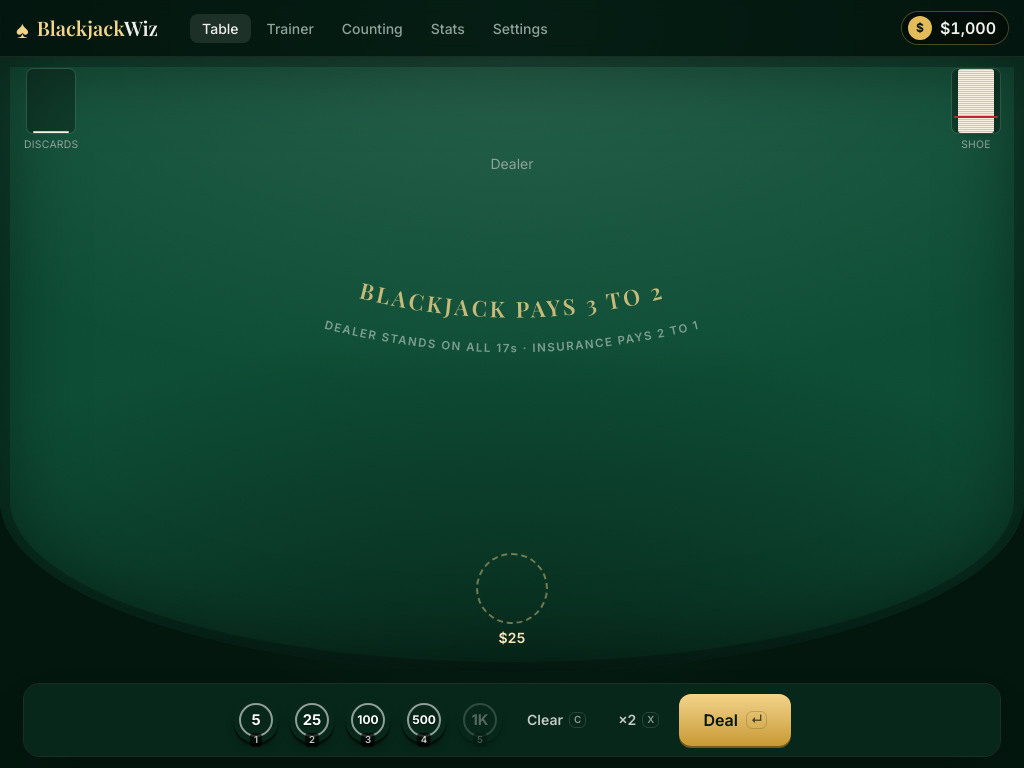
Scenario: table › builds a bet from chips and deals with the keyboard
Expected: the element named "Bankroll $1,000" is shown, [902, 12, 1008, 44]
Click the button named "Add $100". click: (368, 720)
box: [345, 697, 391, 743]
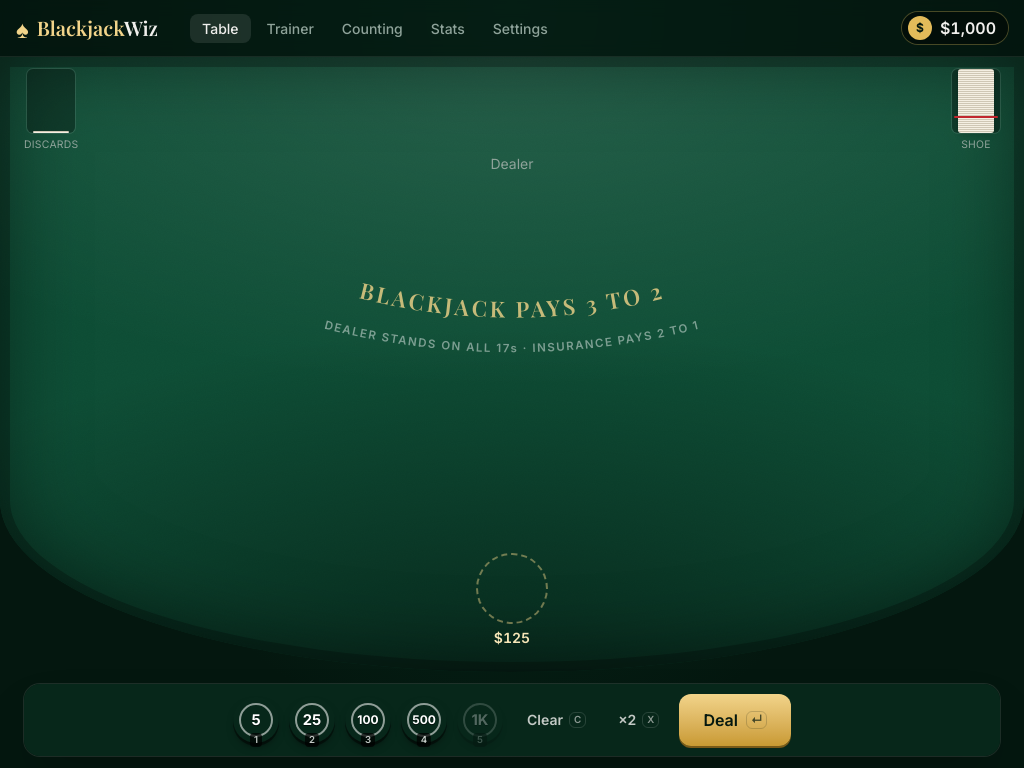
Press Enter
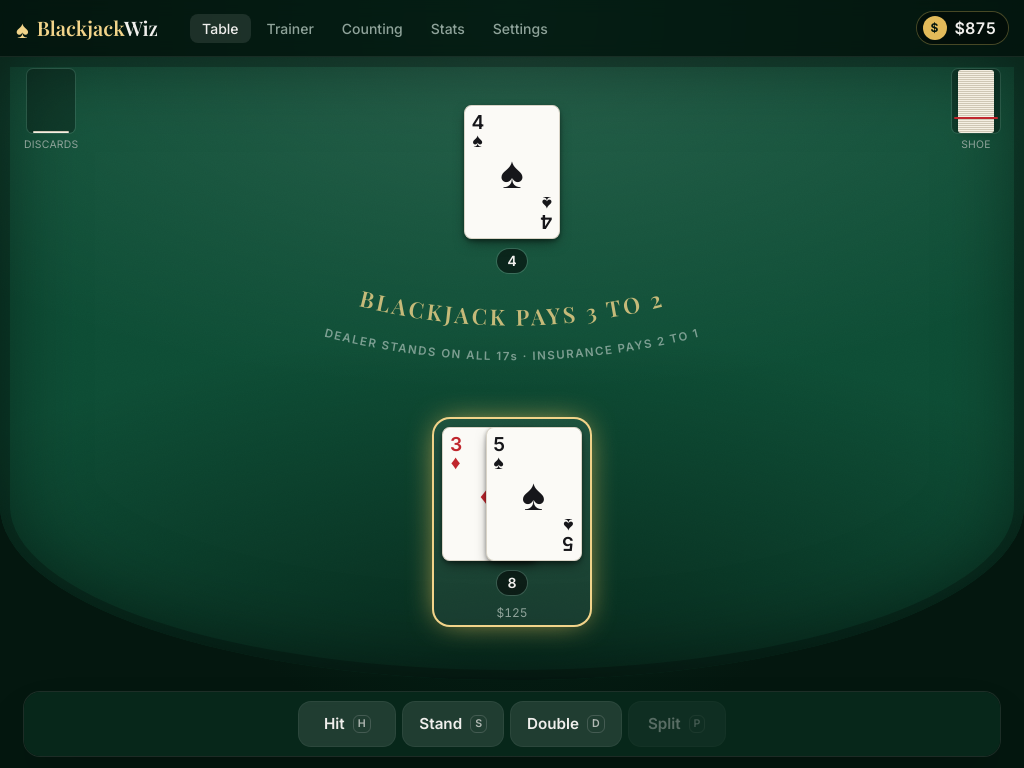
Now the element named "Your move" is shown, box [299, 702, 725, 746]
